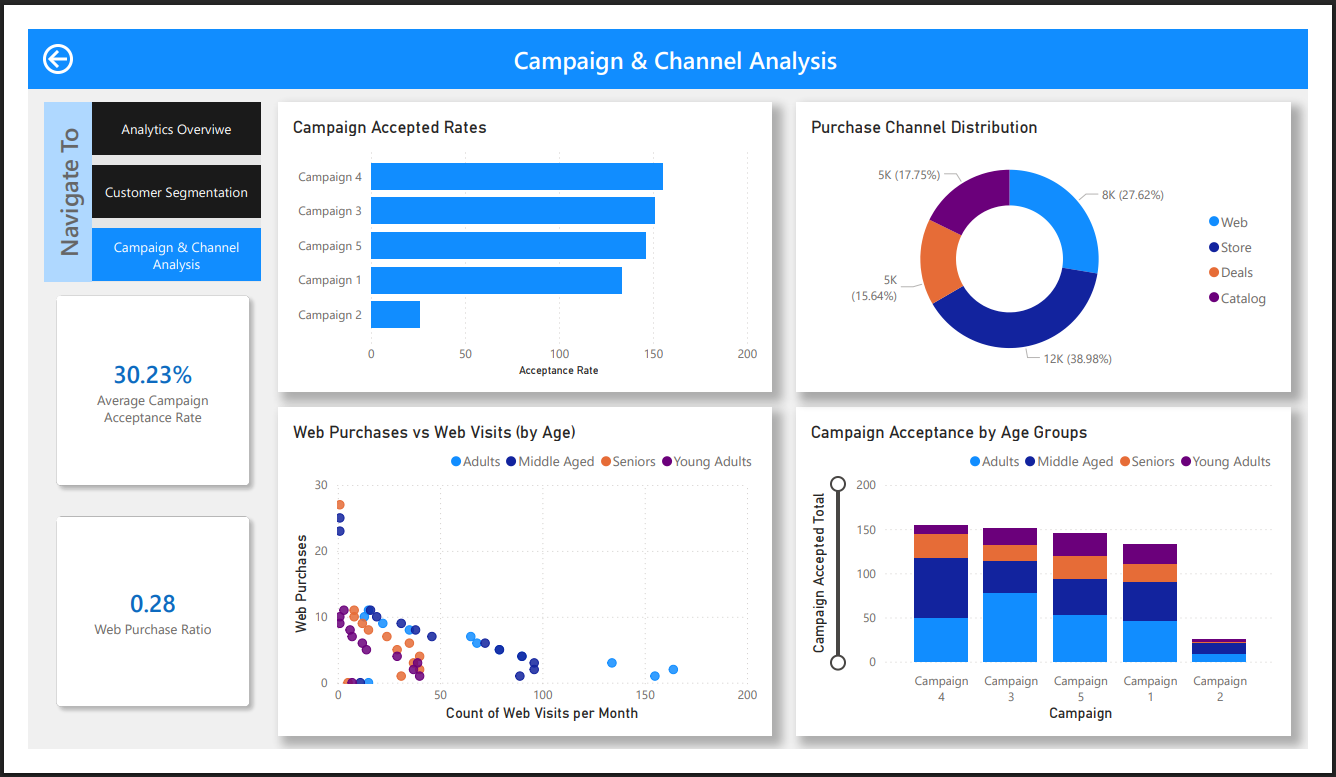

The dashboard page shown, as its layout file describes it:
{"tool":"powerbi","page":{"name":"Campaign & Channel Analysis","canvas":[1280,720],"ordinal":2},"visuals":[{"type":"pageNavigator","box":[64,73.2,168.9,180.1],"z":0,"group":"g1"},{"type":"clusteredBarChart","title":"Campaign Accepted Rates","fields":{"Category":["CampaignLabels.Campaign"],"Y":["ifood_df.Campaign Accepted Total"]},"box":[249.8,73.2,494.7,289.4],"z":0},{"type":"shape","box":[15.6,73.2,48.4,180.1],"z":1000,"group":"g1"},{"type":"scatterChart","title":"Web Purchases vs Web Visits (by Age)","fields":{"X":["CountNonNull(ifood_df.Web Visits per Month)"],"Y":["ifood_df.Web Purchases"],"Series":["ifood_df.Age Group"]},"box":[249.8,378.2,494.7,329],"z":1000},{"type":"cardVisual","fields":{"Data":["Key Measures.Campaign Acceptance Rate","Key Measures.Web Purchase Ratio"]},"box":[0,237.7,249.8,469.5],"z":2000},{"type":"shape","box":[0,0,1279.8,59.5],"z":3000},{"type":"columnChart","title":"Campaign Acceptance by Age Groups","fields":{"Series":["ifood_df.age Group"],"Category":["CampaignLabels.Campaign"],"Y":["ifood_df.Campaign Accepted Total"]},"box":[768.5,378.2,494.7,329],"z":4000},{"type":"actionButton","box":[9.5,9.5,100,40.5],"z":5000},{"type":"donutChart","title":"Purchase Channel Distribution","fields":{"Y":["Sum(ifood_df.Web Purchases)","Sum(ifood_df.Store Purchases)","Sum(ifood_df.Deals Purchases)","Sum(ifood_df.Catalog Purchases)"]},"box":[768.5,73.2,494.7,289.4],"z":6000},{"type":"group","id":"g1","title":"Group 1","box":[15.6,73.2,217.3,180.1],"z":11000}]}

Visuals, with their boxes on the page's 1280x720 design canvas (x1, y1, x2, y2). These are canvas units, not pixel positions in the 1336x777 screenshot, which may show the page scaled, cropped or inside an application window:
pageNavigator: 64,73,233,253
"Campaign Accepted Rates" clusteredBarChart: 250,73,744,363
shape: 16,73,64,253
"Web Purchases vs Web Visits (by Age)" scatterChart: 250,378,744,707
cardVisual - Key Measures.Campaign Acceptance Rate x Key Measures.Web Purchase Ratio: 0,238,250,707
shape: 0,0,1280,60
"Campaign Acceptance by Age Groups" columnChart: 768,378,1263,707
actionButton: 10,10,110,50
"Purchase Channel Distribution" donutChart: 768,73,1263,363
"Group 1" group: 16,73,233,253
